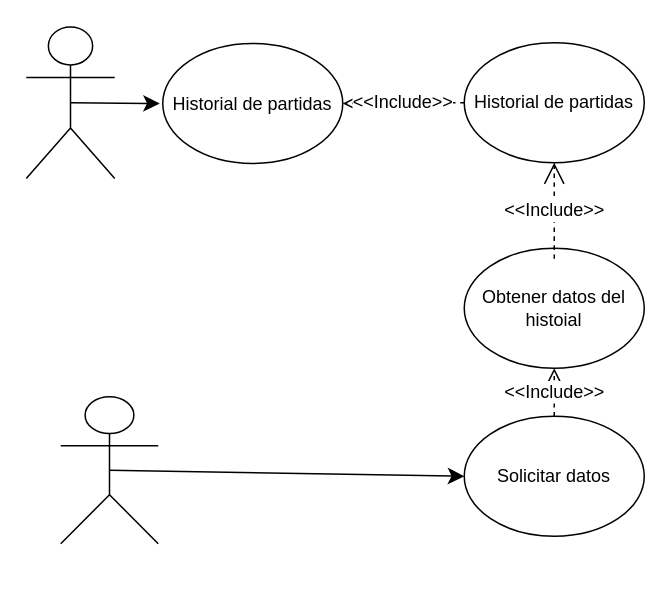
Some shapes in this 671 by 600 pixel diagram are drawn without their labels. The shapes that lost their labels are listed below. From the top down, each one's box as (x1, y1, x2, y2) in pixels, then its label:
(25, 26, 115, 178): USUARIO
(59, 395, 158, 544): SISTEMA
